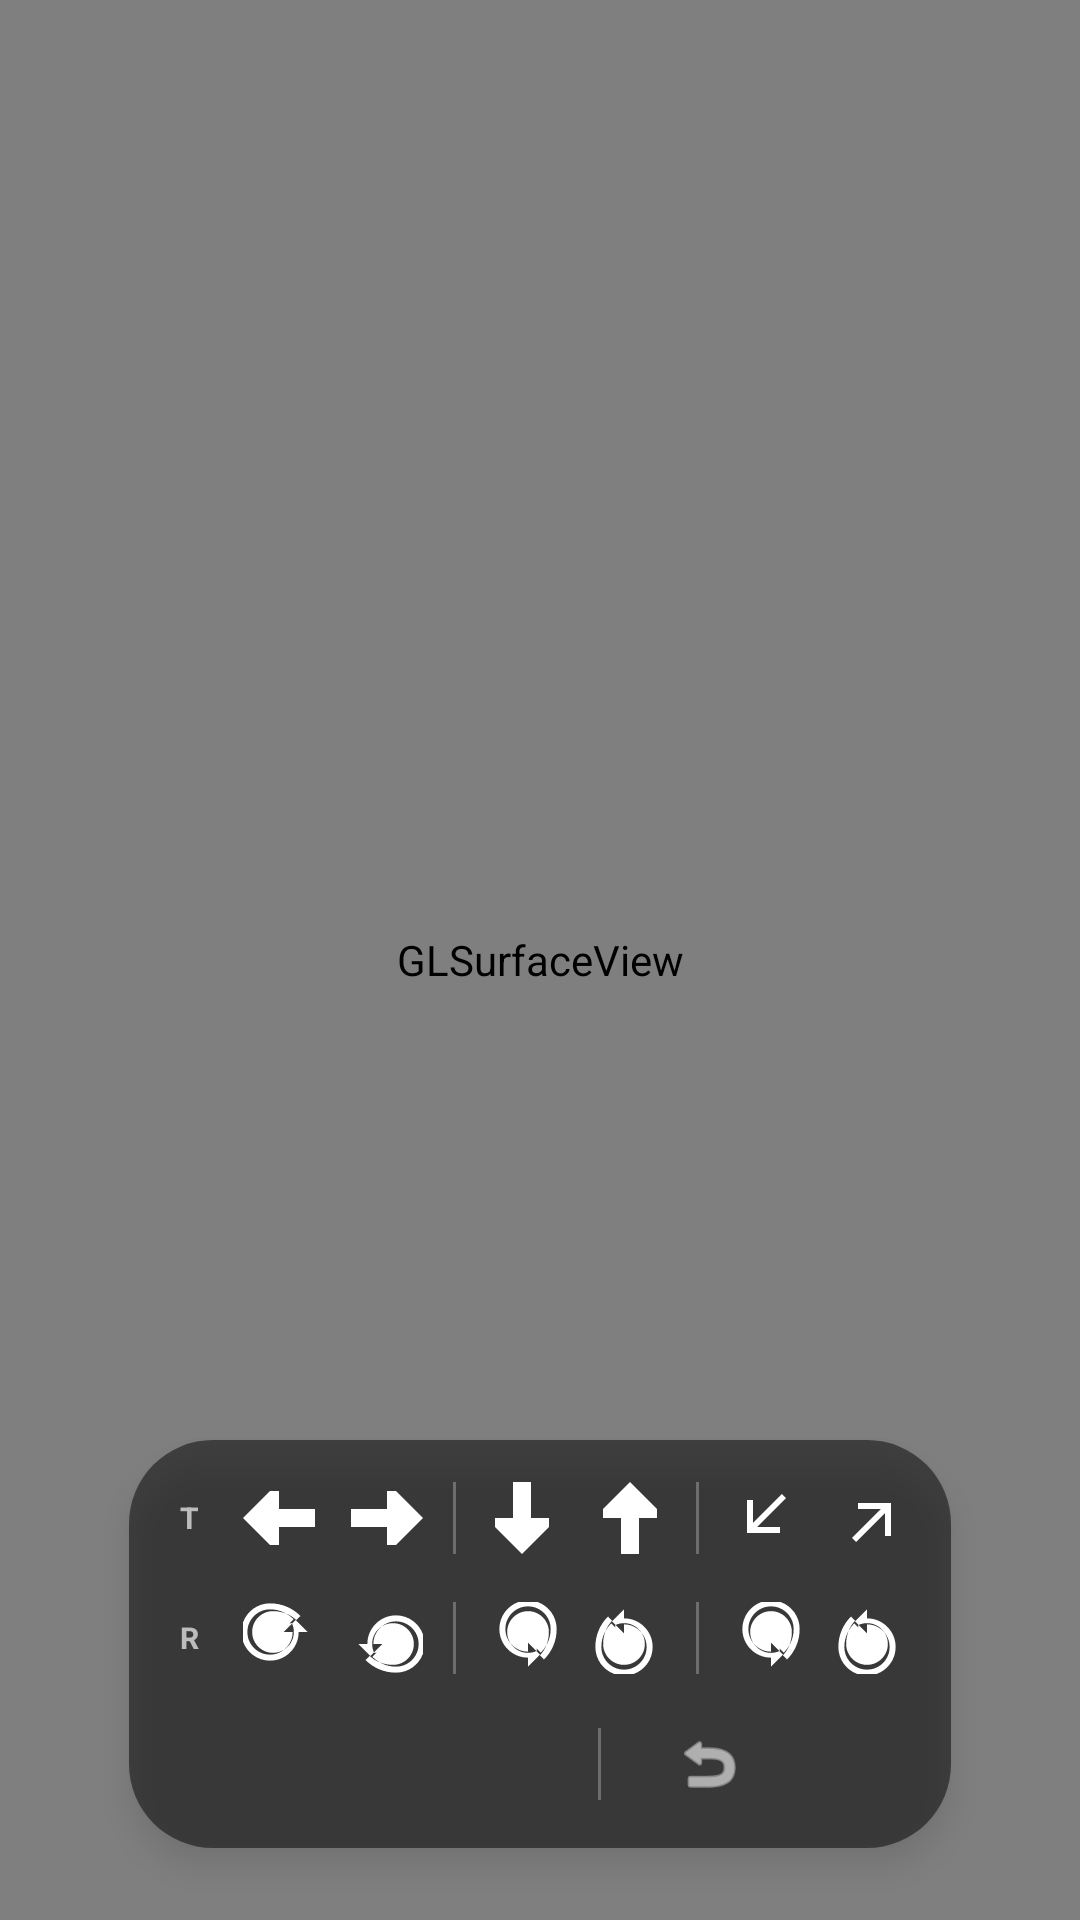

Screen size 1080*1920. Icon name, then its box in pixels as Rect(x1, y1, x2, y2):
Mover X negativo: Rect(243, 1491, 315, 1545)
Mover X positivo: Rect(351, 1491, 423, 1545)
Mover Y abajo: Rect(495, 1482, 549, 1554)
Mover Y arriba: Rect(603, 1482, 657, 1554)
Resetear coordenadas: Rect(684, 1741, 736, 1788)
